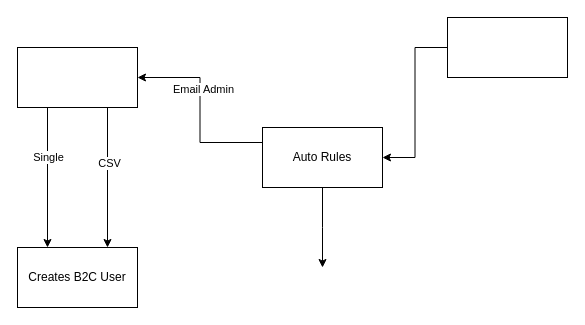
Some shapes in this 585 by 325 pixel diagram are drawn without their labels. Each missing label, with the centre of its shape:
Admin - Signup Form: point (77, 77)
Client - SignUp Form: point (507, 47)
